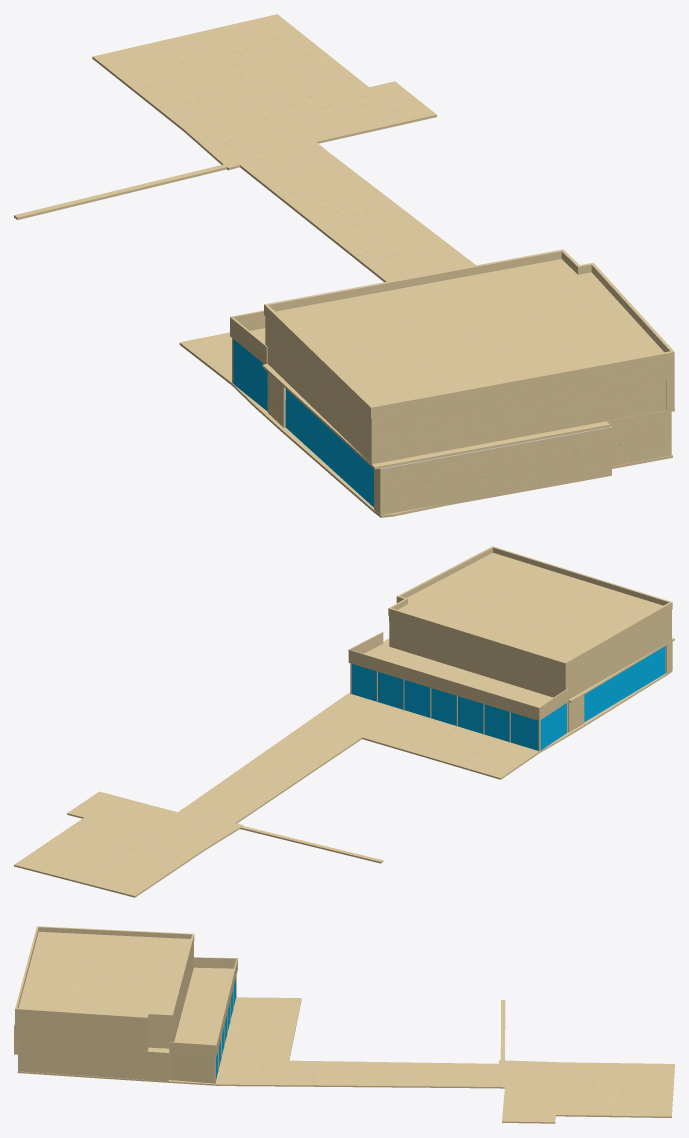
File: 5. Floor.fbx
3 renders of one model, top to bottom at view 1: azimuth 30°, elevation 25°; view 2: azimuth 150°, elevation 25°; view 3: azimuth 270°, elevation 25°, orthographic. The views are drawn at different scales.
Parts seen in each view (by area): view 1: 6.Kat, 5.Kat.001, 5.Kat.002; view 2: 6.Kat, 5.Kat.001, 5.Kat.002; view 3: 5.Kat.001, 6.Kat, 5.Kat.002.
Part boxes in pixels (bbox=[...]): 6.Kat: bbox=[230, 249, 674, 469]; 5.Kat.001: bbox=[14, 14, 672, 517]; 5.Kat.002: bbox=[233, 339, 373, 507]; 6.Kat: bbox=[348, 546, 674, 720]; 5.Kat.001: bbox=[14, 642, 672, 897]; 5.Kat.002: bbox=[351, 646, 665, 750]; 5.Kat.001: bbox=[14, 975, 674, 1123]; 6.Kat: bbox=[15, 926, 237, 1056]; 5.Kat.002: bbox=[216, 978, 235, 1079].
Size of the model in its own units: 3131 by 701 by 6556.
Materials: 3 (2 with a texture image).
